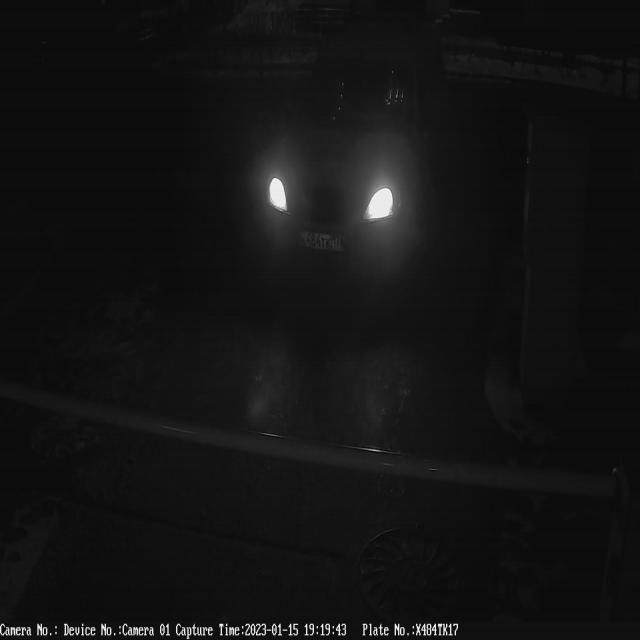car-plate-numbers: (297, 227, 349, 256)
